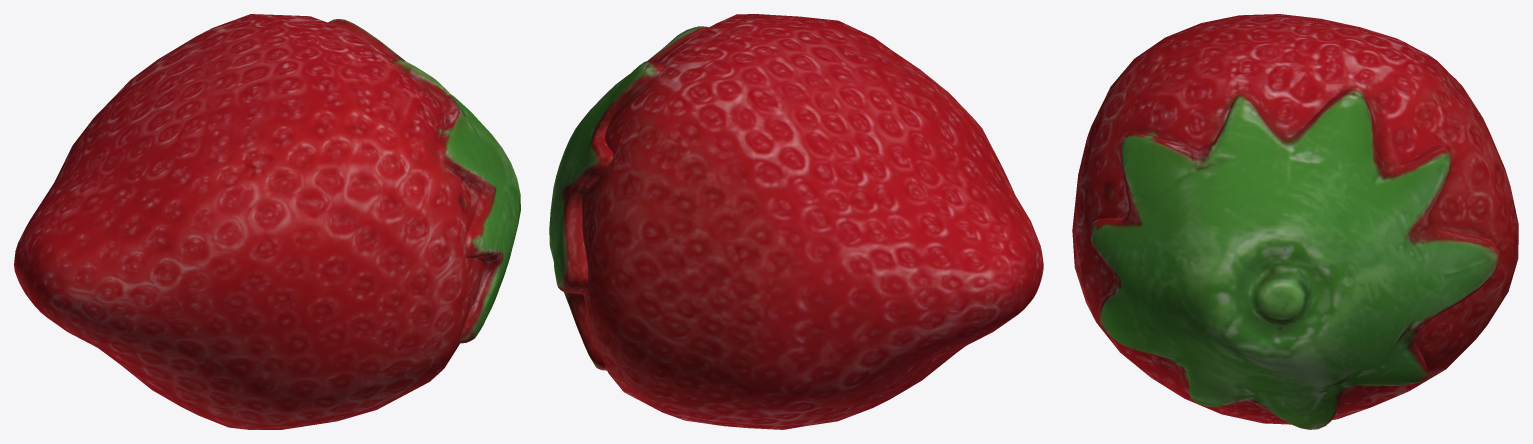
The model's file is 012_strawberry.dae.
The picture shows the model from 3 angles, left to right: view 1: azimuth 30°, elevation 25°; view 2: azimuth 150°, elevation 25°; view 3: azimuth 270°, elevation 25°; orthographic projection.
Parts seen in each view (by area): view 1: 012_strawberry; view 2: 012_strawberry; view 3: 012_strawberry.
Boxes of the visible parts, <box> form: 012_strawberry: <box>14,14,520,429</box>; 012_strawberry: <box>549,14,1043,429</box>; 012_strawberry: <box>1072,14,1518,429</box>.
Bounding box in the file's own units: 0.0542 × 0.0455 × 0.0414.
1 material, 1 textured.
